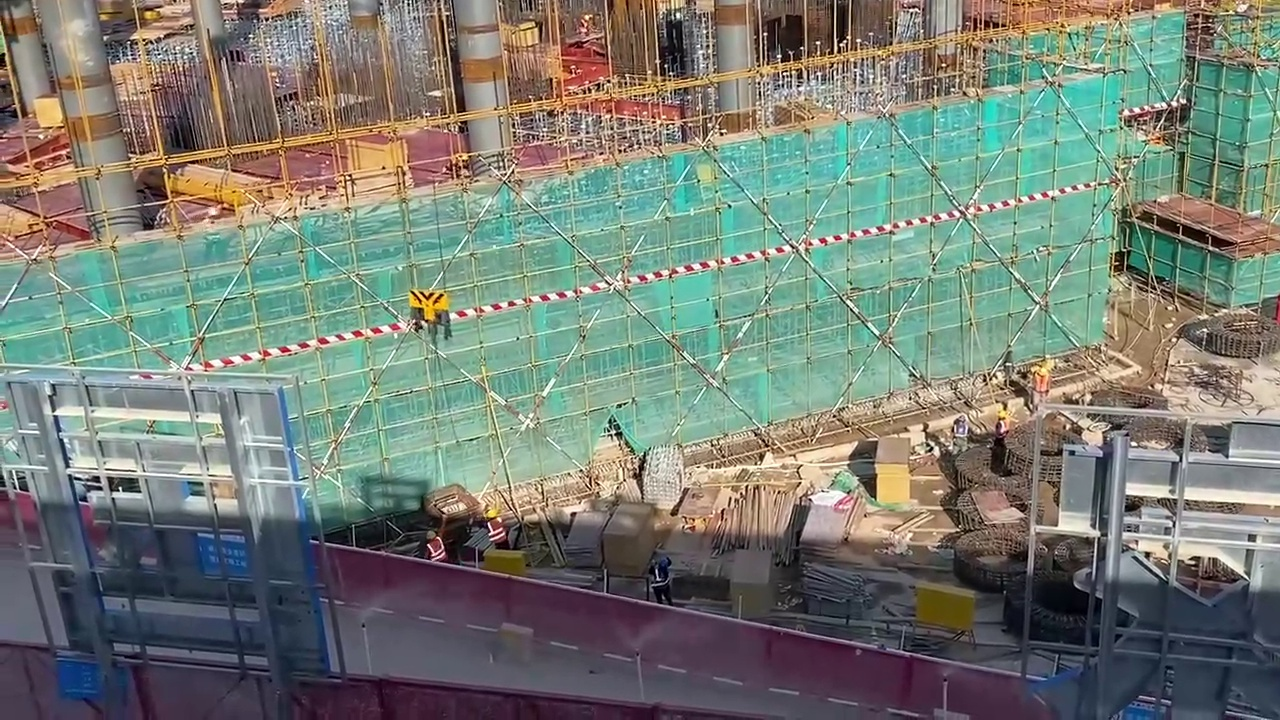board: (873, 436, 908, 501)
fence: (3, 639, 702, 720)
hook: (410, 287, 449, 323)
person: (649, 553, 675, 604), (483, 507, 512, 549), (425, 531, 447, 566)
vest: (487, 519, 505, 542), (427, 540, 445, 561)
wood: (713, 485, 794, 558)
